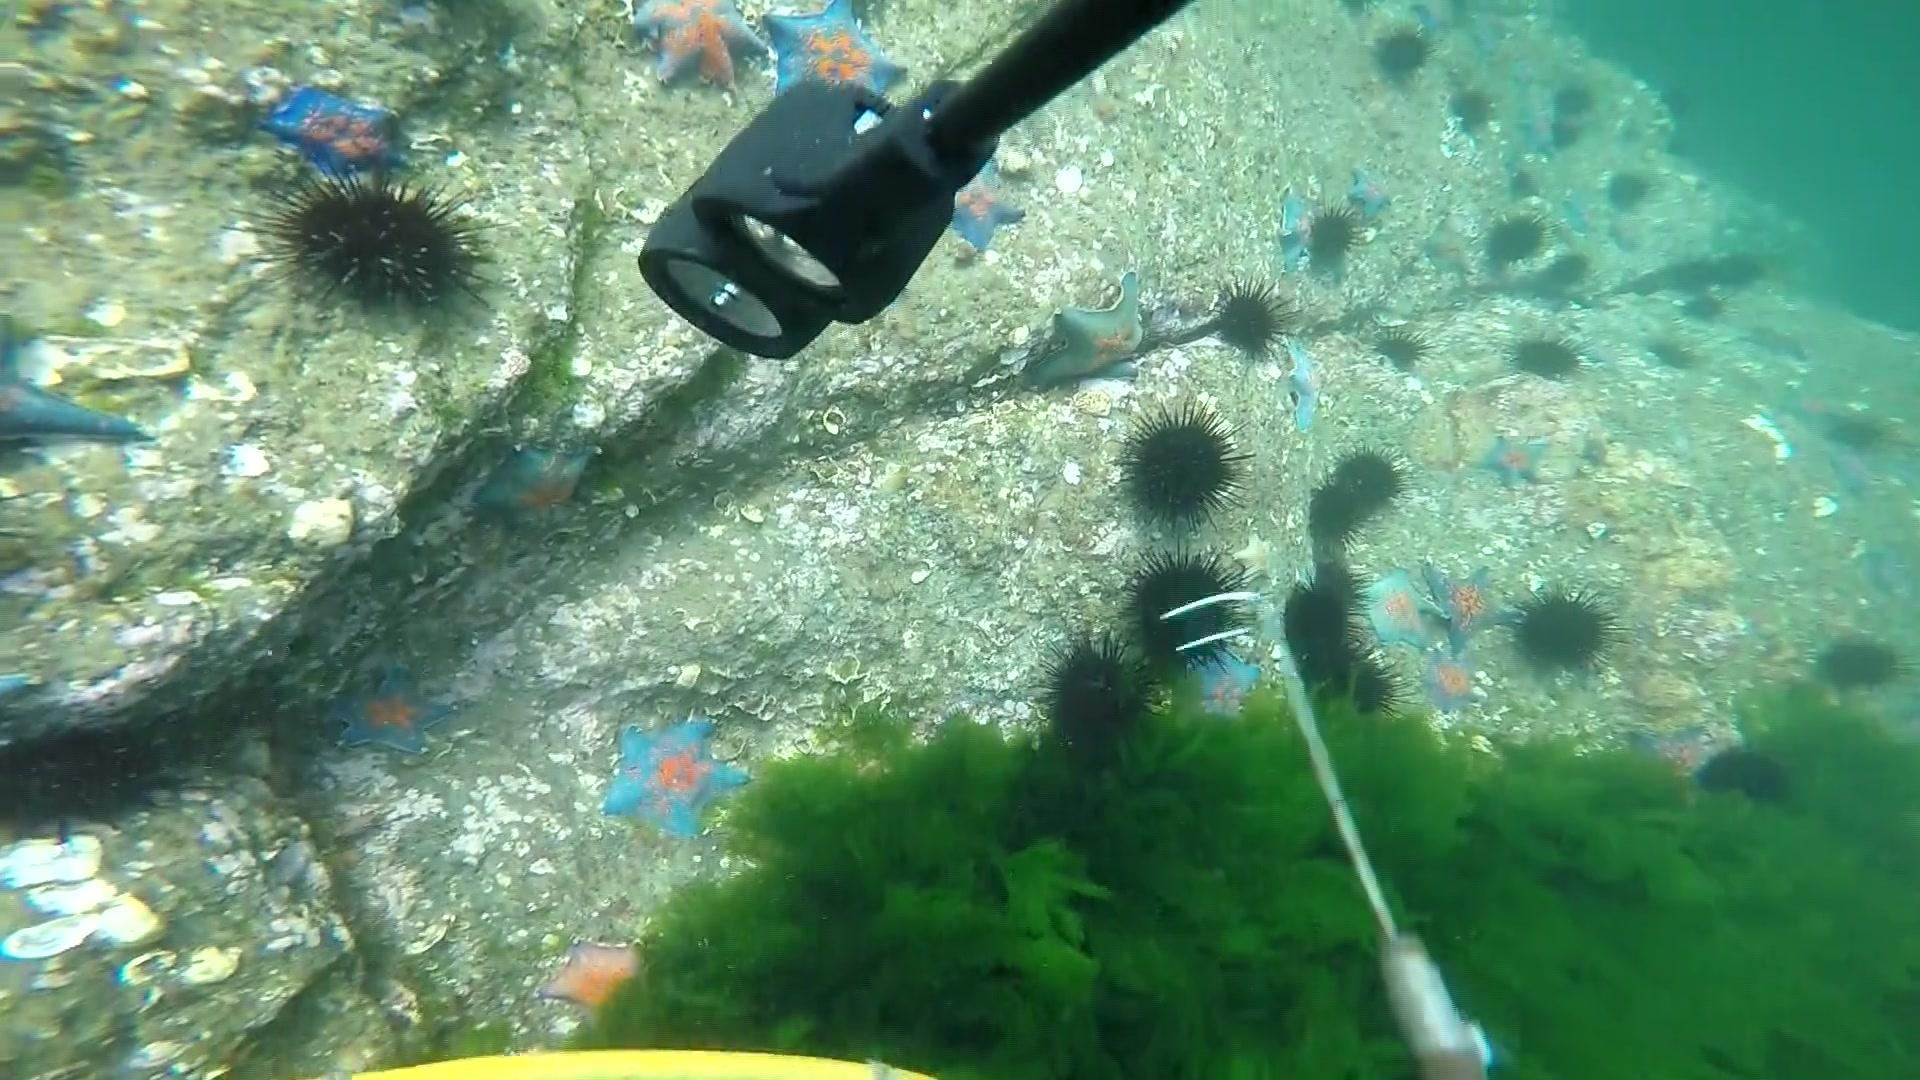echinus: (218, 162, 521, 330), (1109, 400, 1267, 537), (1113, 539, 1262, 684), (1027, 628, 1160, 761), (1506, 579, 1639, 675), (1283, 583, 1369, 682), (1325, 634, 1419, 724), (1209, 280, 1300, 363), (1817, 629, 1920, 694), (1331, 443, 1423, 510), (1693, 749, 1799, 806), (1487, 203, 1565, 270), (1307, 476, 1371, 556), (1509, 328, 1596, 384), (1304, 195, 1371, 264), (1313, 558, 1379, 626), (1374, 29, 1441, 76), (1371, 326, 1443, 371), (1830, 414, 1886, 454), (1452, 84, 1495, 133), (1544, 252, 1592, 290), (1610, 171, 1650, 214), (1673, 258, 1720, 294), (1720, 255, 1768, 287), (1553, 86, 1596, 120), (1662, 84, 1697, 123), (1687, 291, 1729, 322), (1509, 166, 1542, 204), (1648, 342, 1689, 371), (1547, 119, 1584, 150), (1605, 225, 1636, 255), (1633, 274, 1662, 299)
starfish: (596, 713, 761, 855), (248, 78, 421, 185), (1025, 268, 1155, 394), (607, 7, 779, 98), (322, 669, 462, 764), (473, 436, 600, 533), (767, 26, 916, 108), (531, 935, 659, 1025), (1422, 560, 1536, 653), (942, 152, 1034, 258), (41, 382, 161, 448), (1361, 570, 1452, 653), (1176, 640, 1270, 716), (1627, 723, 1724, 781), (1414, 215, 1478, 280), (1282, 344, 1327, 435), (1423, 653, 1486, 715), (1482, 436, 1551, 491), (1851, 541, 1909, 603), (1232, 531, 1283, 591), (1742, 320, 1813, 363), (1346, 164, 1398, 222), (1279, 186, 1312, 273), (1514, 108, 1563, 162), (1778, 407, 1826, 458), (1828, 446, 1874, 496), (1560, 190, 1598, 233), (1411, 3, 1461, 33)
